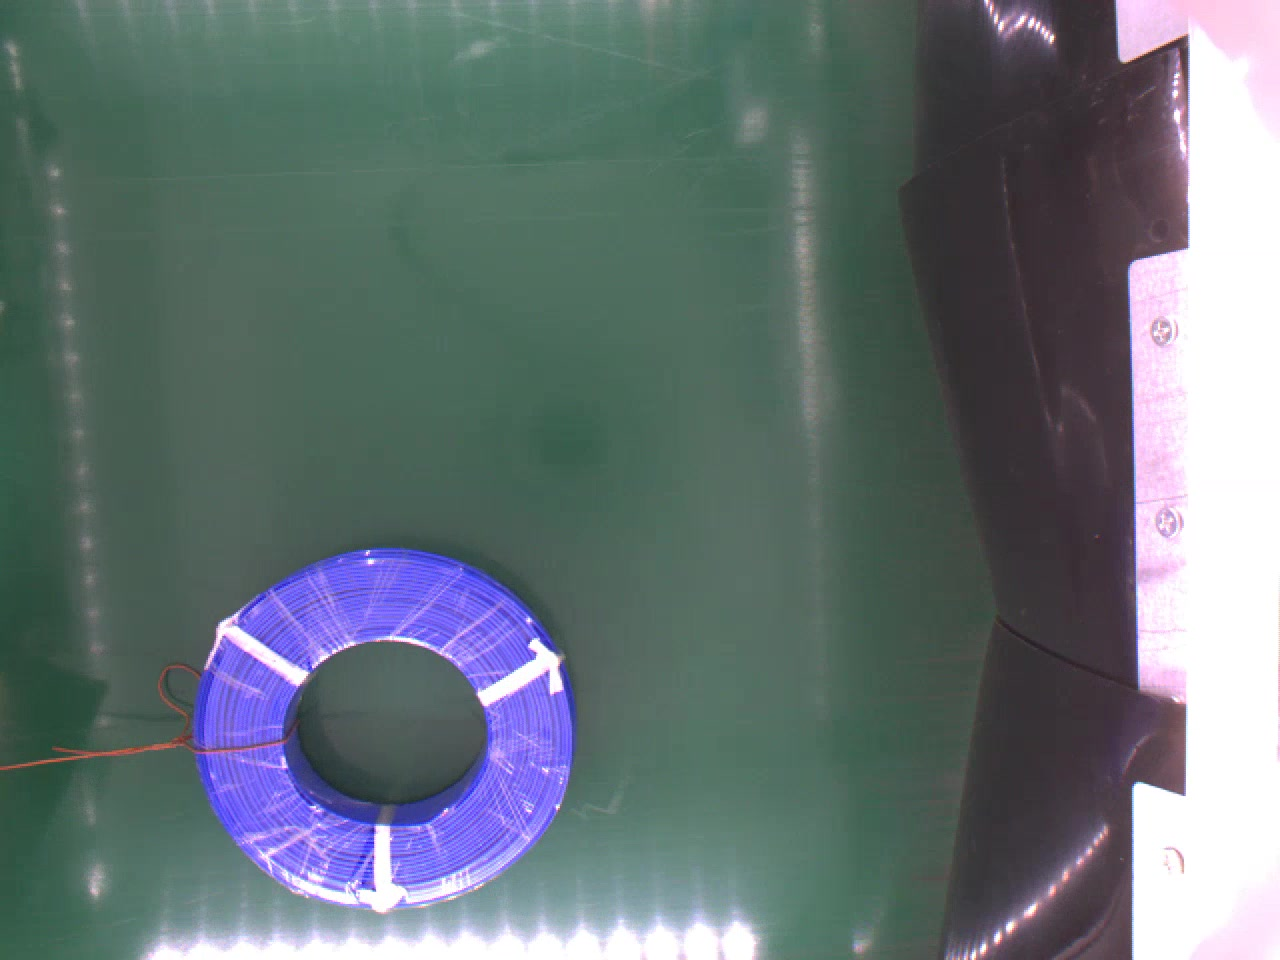blue: (190, 541, 574, 912)
